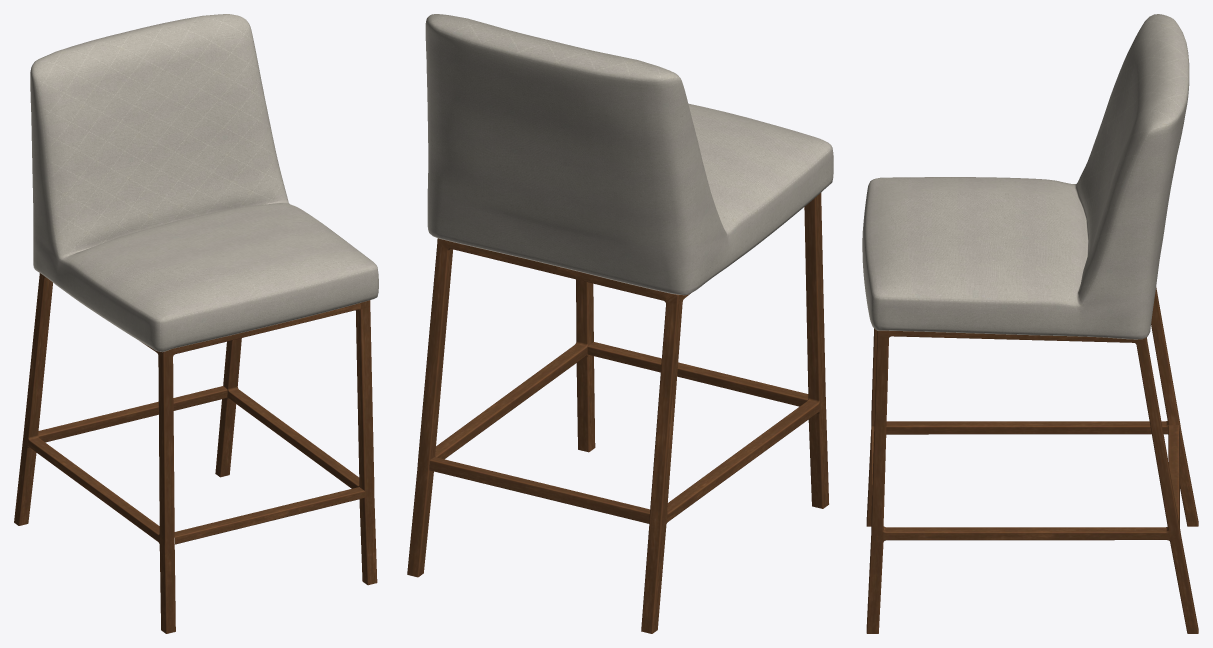
Rendered from stool_B07HSDPS35.glb.
The picture shows the model from 3 angles, left to right: view 1: azimuth 30°, elevation 25°; view 2: azimuth 150°, elevation 25°; view 3: azimuth 270°, elevation 25°; orthographic projection. The views are drawn at different scales.
Parts seen in each view (by area): view 1: RootNode; view 2: RootNode; view 3: RootNode.
Boxes of the visible parts, left/top/right/bottom form: RootNode: left=14, top=14, right=378, bottom=633; RootNode: left=407, top=14, right=833, bottom=633; RootNode: left=862, top=14, right=1198, bottom=633.
Size of the model in its own units: 0.5067 by 0.9726 by 0.5759.
1 material, 1 textured.
